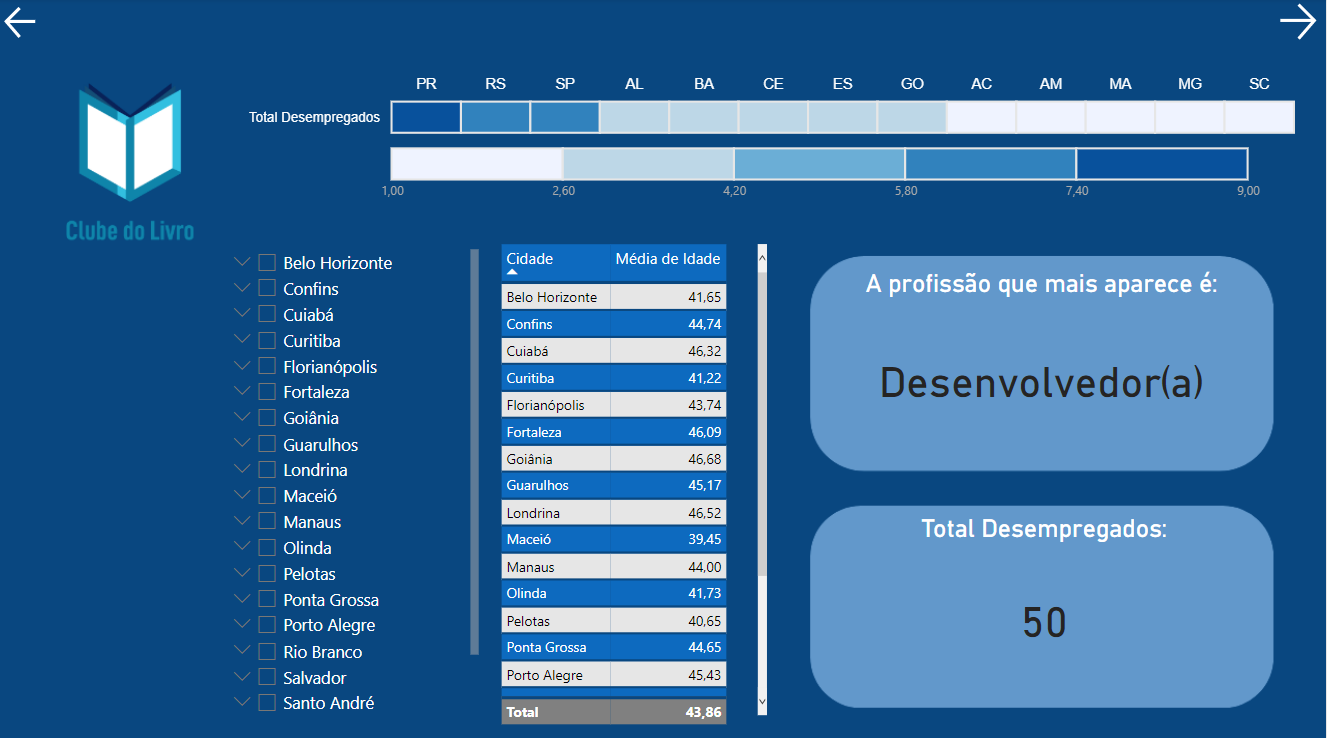

The dashboard page shown, as its layout file describes it:
{"tool":"powerbi","page":{"name":"Dash2","canvas":[1280,720],"ordinal":1},"visuals":[{"type":"card","title":"A profissão que mais aparece é:","fields":{"Values":["Min(Clientes.Profissão)"]},"box":[791.2,261.7,426.9,182.1],"z":0},{"type":"card","title":"Total Desempregados:","fields":{"Values":["Medidas.Total Desempregados"]},"box":[811.7,498.1,390.8,172.5],"z":1000},{"type":"TableHeatMap1443716069308","fields":{"Category":["Clientes.Estado"],"Y":["Medidas.Total Desempregados"]},"box":[231.6,59.1,1038.4,173.7],"z":2000},{"type":"tableEx","fields":{"Values":["Clientes.Cidade","Avg(Clientes.Idade)"]},"box":[477.6,232.8,267.7,472.8],"z":3000},{"type":"slicer","fields":{"Values":["Clientes.Cidade","Clientes.Gênero"]},"box":[212.3,237.6,254.5,463.1],"z":4000},{"type":"actionButton","box":[1228.9,0,50.7,45.8],"z":5000},{"type":"actionButton","box":[0,3.6,53.1,39.8],"z":6000}]}

Visuals, with their boxes in screenshot pixels (x1, y1, x2, y2), scaled from the page's 1280x720 canvas onto the 1327x738 screenshot:
"A profissão que mais aparece é:" card: x1=820, y1=268, x2=1263, y2=455
"Total Desempregados:" card: x1=842, y1=511, x2=1247, y2=687
TableHeatMap1443716069308 - Clientes.Estado x Medidas.Total Desempregados: x1=240, y1=61, x2=1317, y2=239
tableEx - Clientes.Cidade x Avg(Clientes.Idade): x1=495, y1=239, x2=773, y2=723
slicer - Clientes.Cidade x Clientes.Gênero: x1=220, y1=244, x2=484, y2=718
actionButton: x1=1274, y1=0, x2=1326, y2=47
actionButton: x1=0, y1=4, x2=55, y2=44
